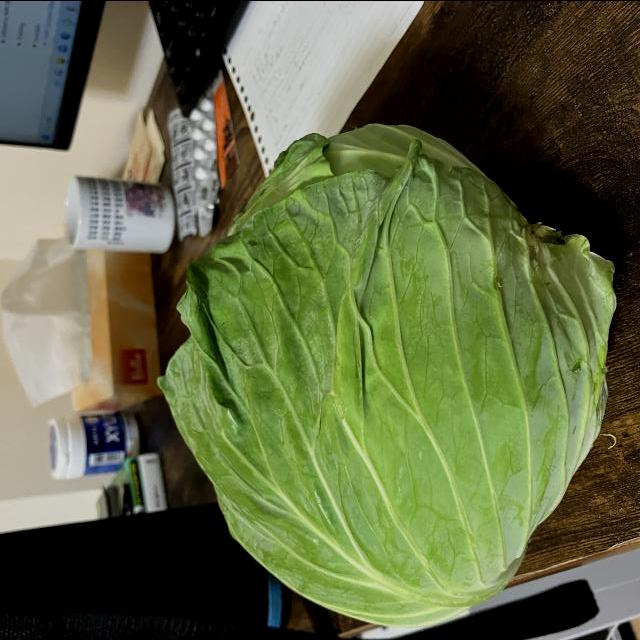cabbage: (155, 121, 627, 630)
